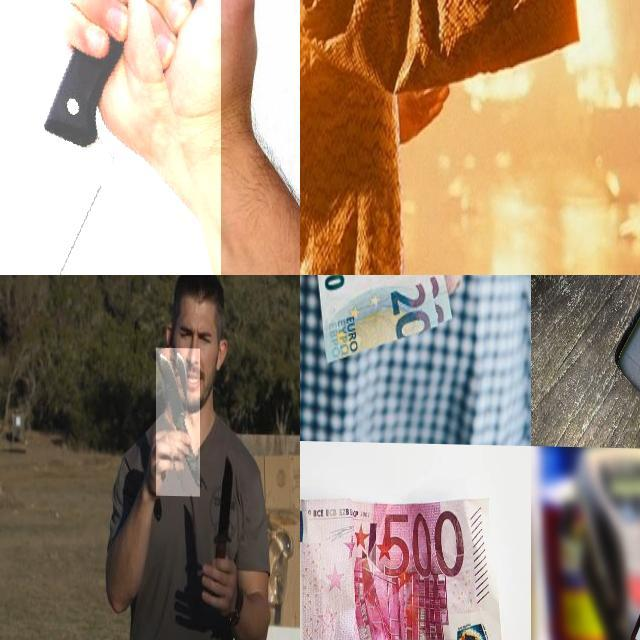-: (0, 0, 220, 275), (156, 346, 200, 495), (195, 448, 235, 610)
gun-knife-thesis - v11 Yolov5 augmented: (596, 0, 640, 76)
